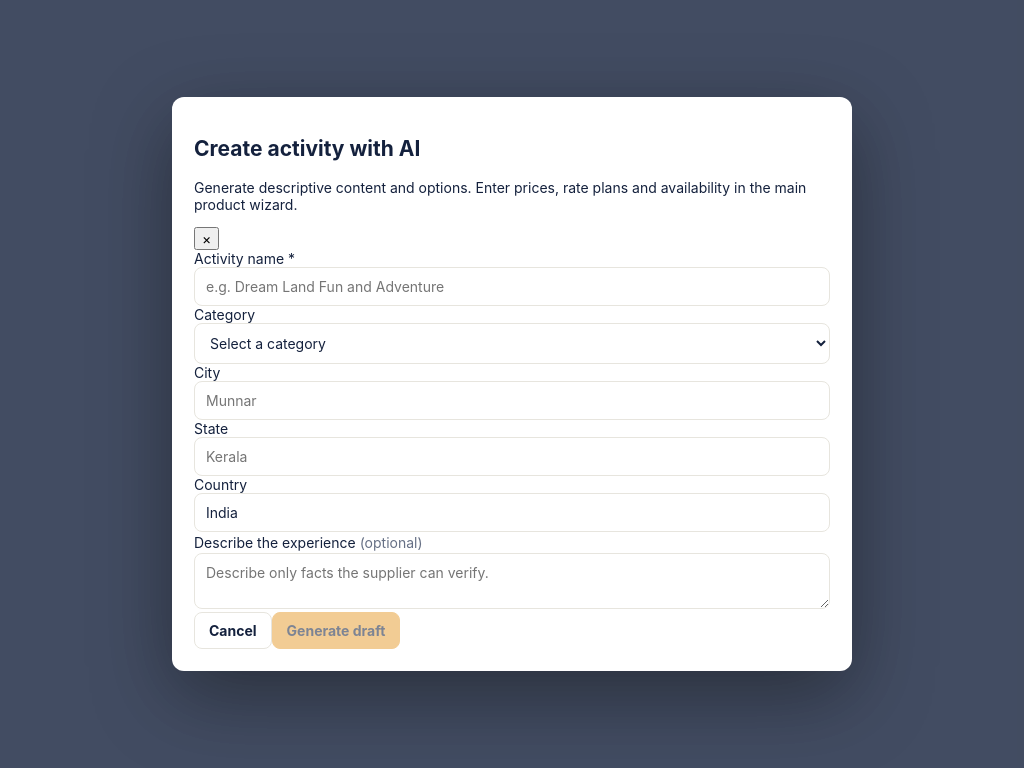
Scenario: ActivityAiModal › accepts every content field and option when Accept all is clicked
Type "Dream Land Fun and Adventure" into the field labelled "Activity name" at point(512, 286), box [194,267,830,306]
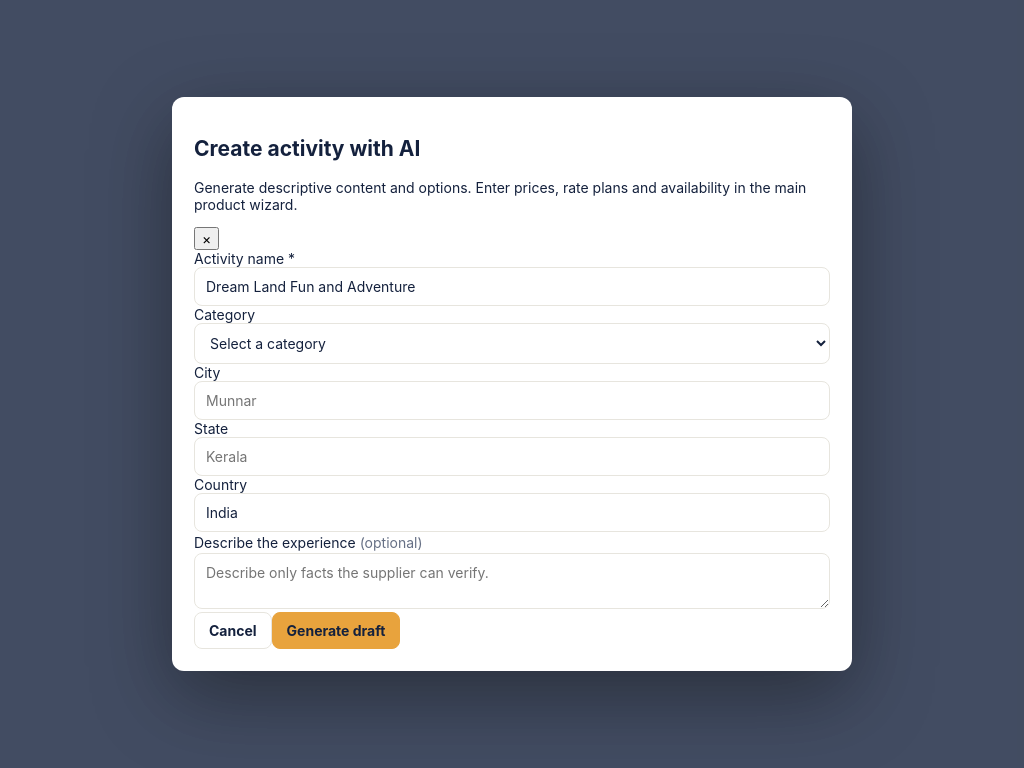
Click the button "Generate draft" at point(336, 631), box [272,612,400,649]
(page scrolled)
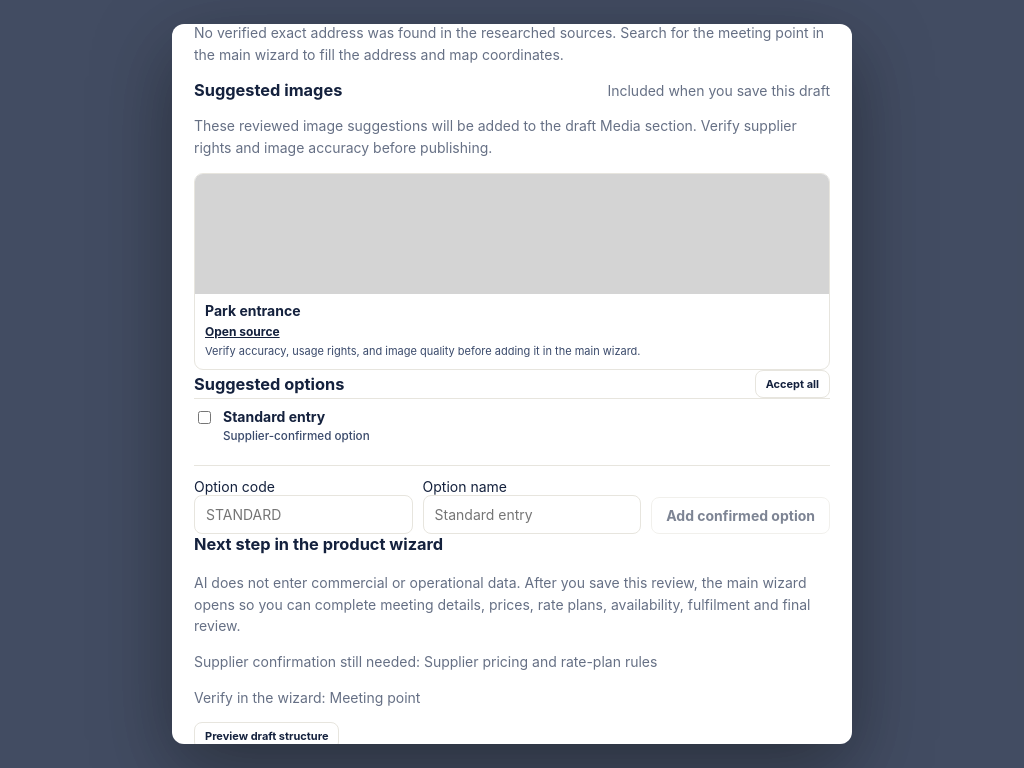
Click the button "Accept all" at point(792, 384), box [755,370,830,398]
(page scrolled)
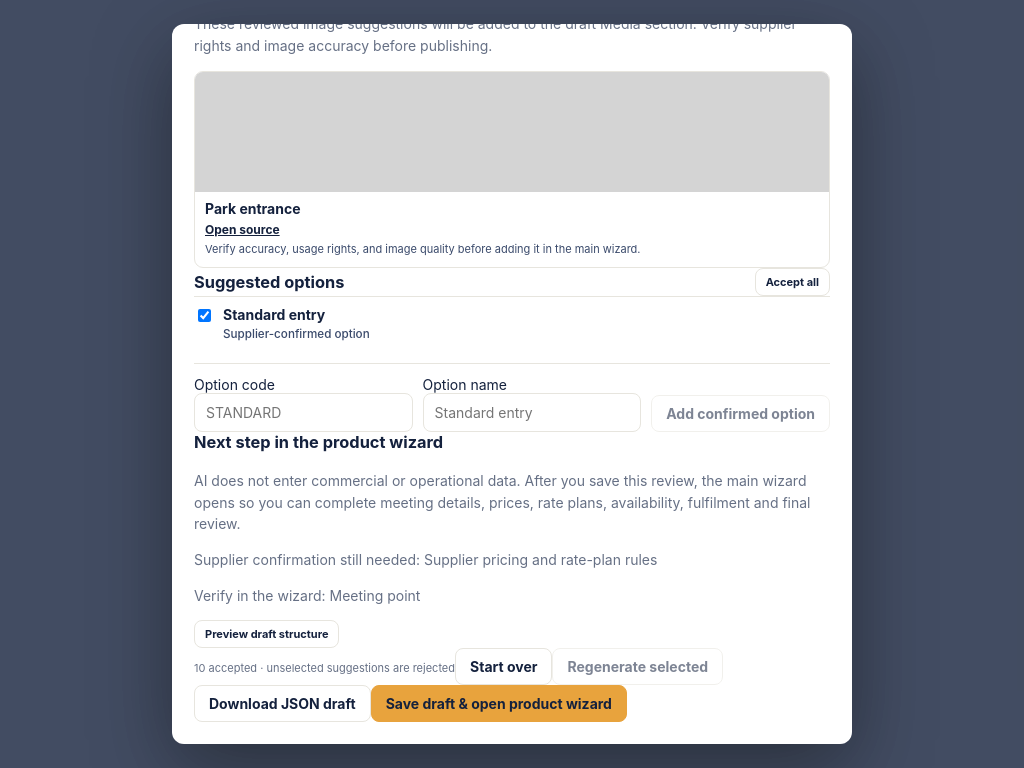
Check: the checkbox is checked, box [198,308,211,322]
Check: the button "Save draft & open product wizard" is enabled, box [371,685,627,722]
